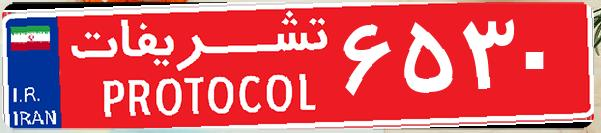0: (520, 20, 580, 115)
3: (460, 20, 520, 115)
5: (400, 20, 460, 115)
6: (340, 20, 400, 115)
تشریفات: (60, 8, 340, 125)
